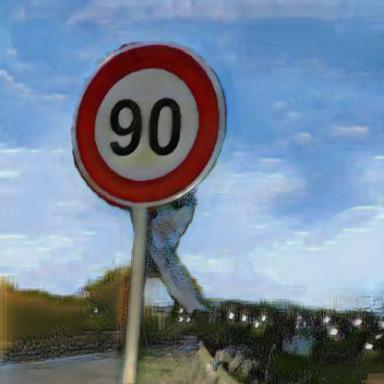Speed_limit_90: (76, 45, 224, 206)
